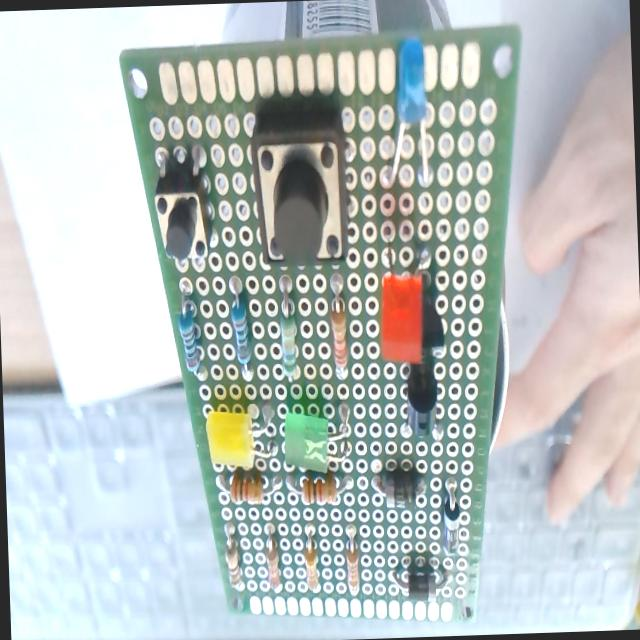diode: (391, 558, 449, 600), (373, 466, 427, 508), (441, 488, 461, 556)
led: (376, 38, 432, 190), (203, 403, 276, 473), (377, 266, 426, 366), (283, 407, 329, 472)
resistor: (173, 282, 206, 382), (228, 276, 257, 386), (218, 465, 278, 505), (278, 275, 299, 385), (328, 274, 350, 379), (288, 469, 352, 504), (223, 524, 242, 588), (344, 524, 361, 594), (302, 526, 320, 592), (265, 537, 280, 590)
switch: (250, 110, 352, 268), (152, 146, 214, 266)
transistor: (403, 360, 440, 438)
